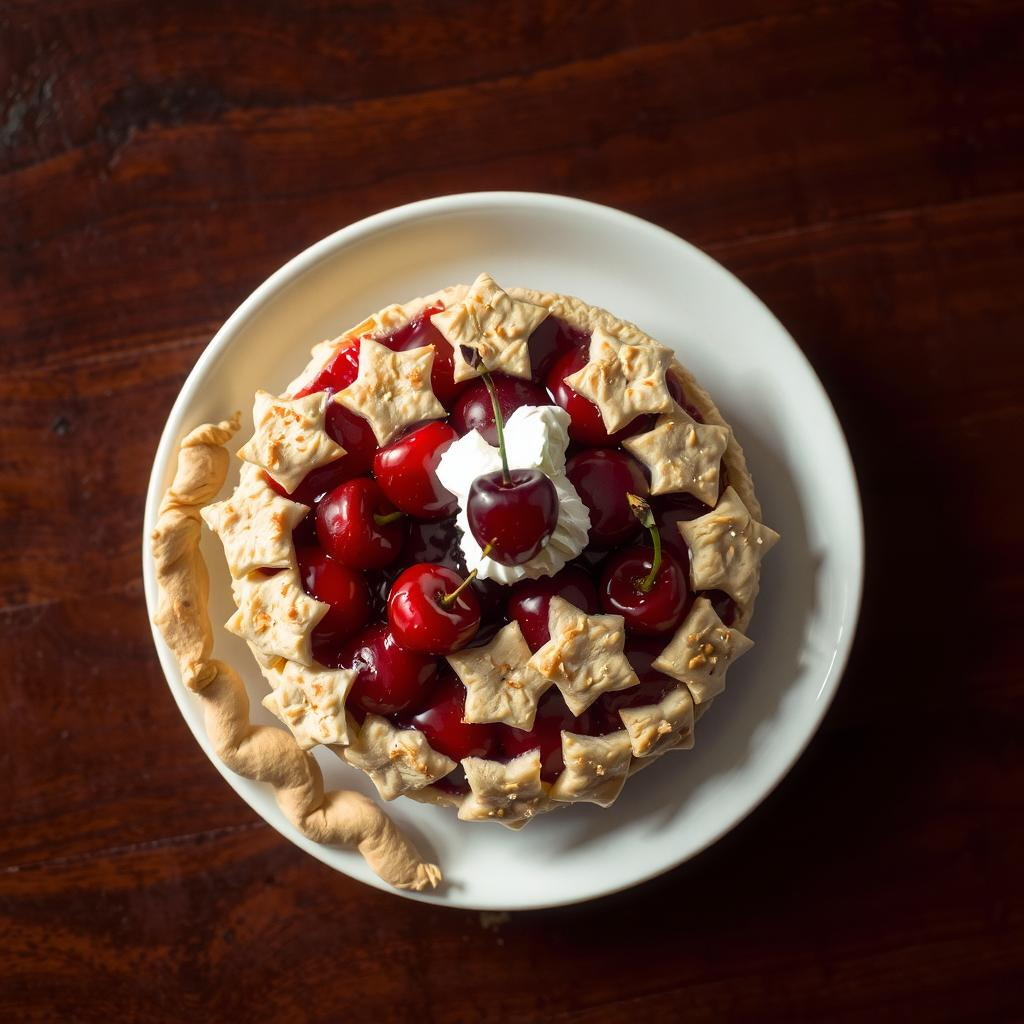pie: (216, 273, 787, 830)
